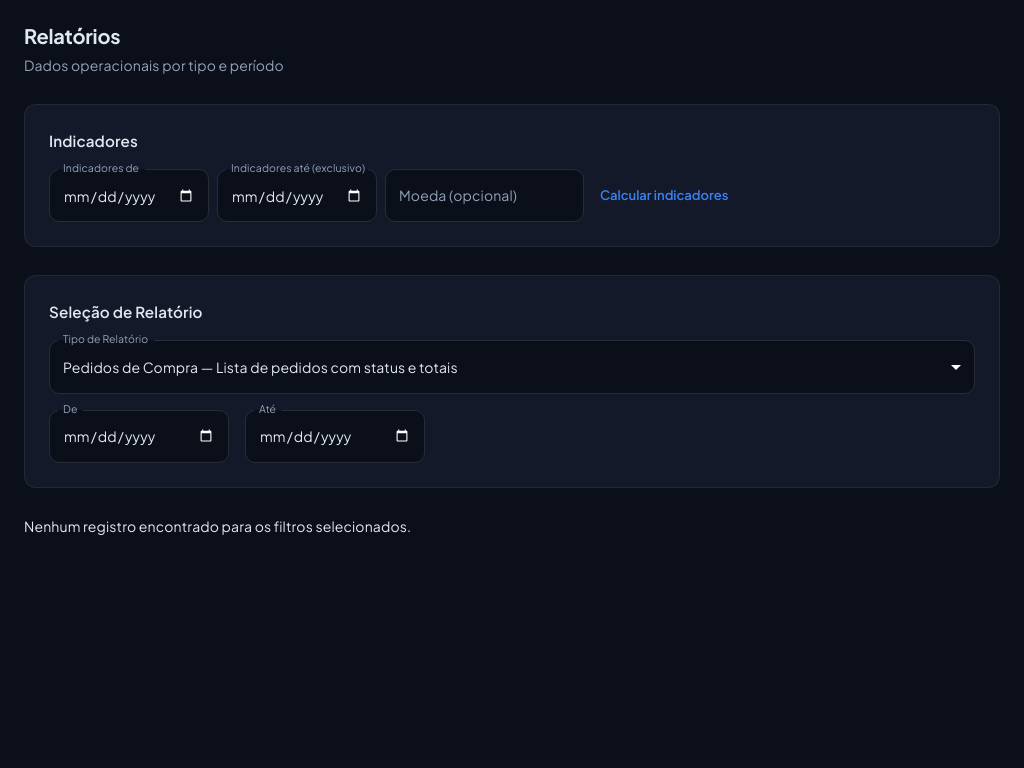
Test case: Indicadores B18 › calcula sob demanda, mostra 'Sem amostra' e não oferece CSV sem ANALYTICS_EXPORTAR
Click the button "Calcular indicadores": (664, 196) [592, 169, 736, 222]
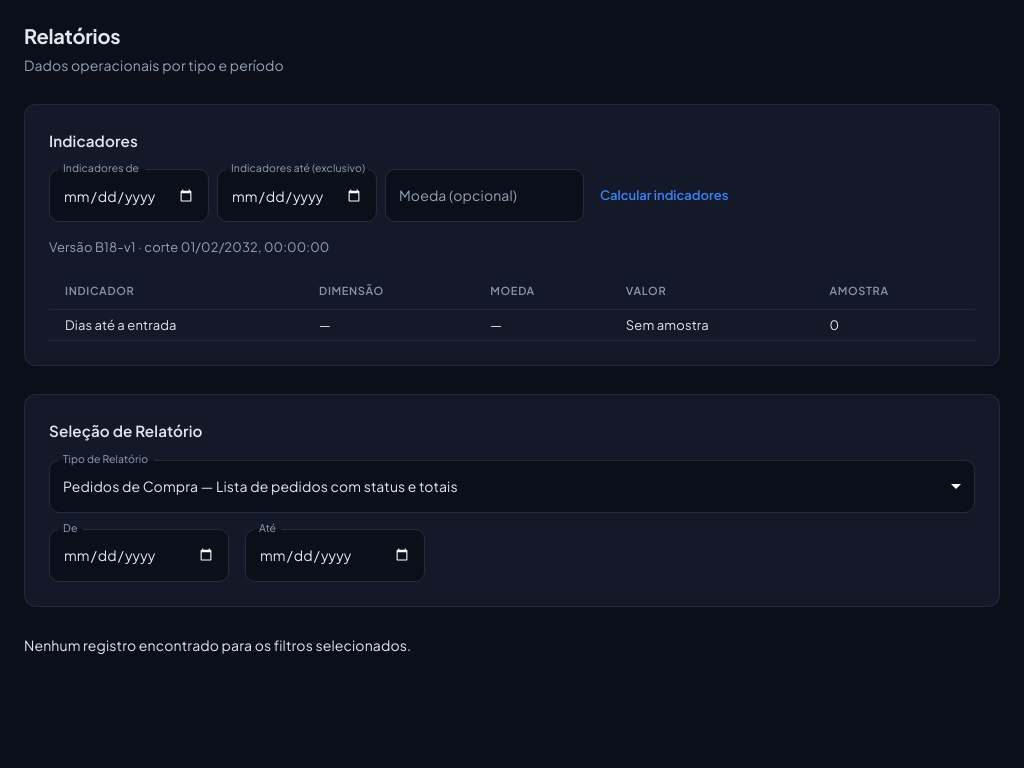
Check: the text "Sem amostra" is shown, box [610, 309, 813, 341]
Check: the text "Dias até a entrada" is shown, box [49, 309, 303, 341]
